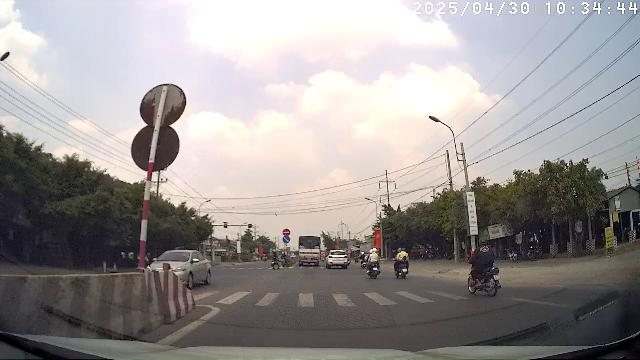102-cam-di-nguoc-chieu: (282, 228, 291, 236)
302a-huong-phai-di-vong-chuong-ngai-vat-1: (282, 236, 290, 243)
